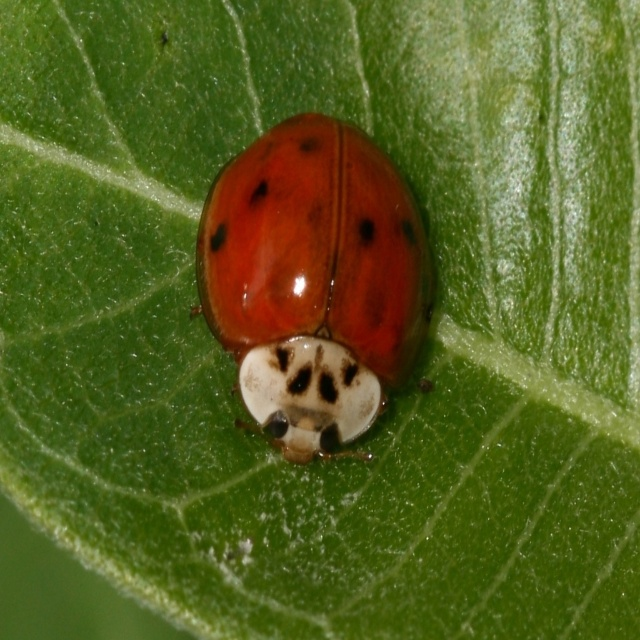Ladybug: (191, 107, 432, 462)
